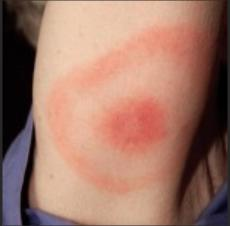Spider: (52, 19, 206, 194)
